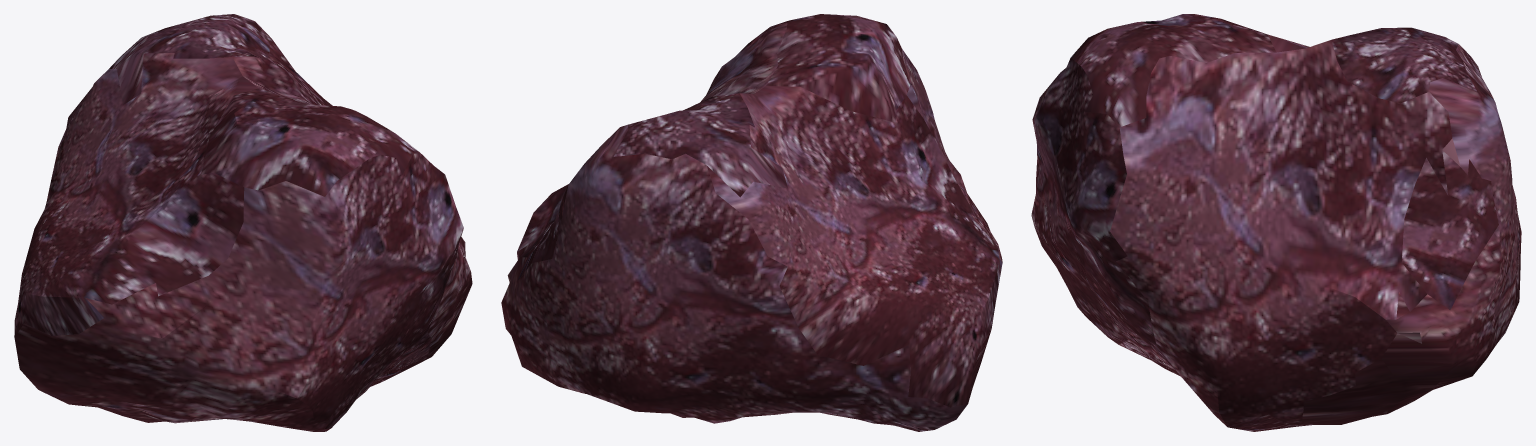
Rendered from AuthenticMeatChunk04.fbx.
3 views of the same model, side by side, from view 1: azimuth 30°, elevation 25°; view 2: azimuth 150°, elevation 25°; view 3: azimuth 270°, elevation 25° (orthographic). The views are drawn at different scales.
Parts seen in each view (by area): view 1: rock; view 2: rock; view 3: rock.
Part boxes in pixels (<box>): rock: <box>14,14,472,431</box>; rock: <box>501,14,1002,431</box>; rock: <box>1031,14,1521,431</box>.
Size of the model in its own units: 0.0804 by 0.0626 by 0.0794.
